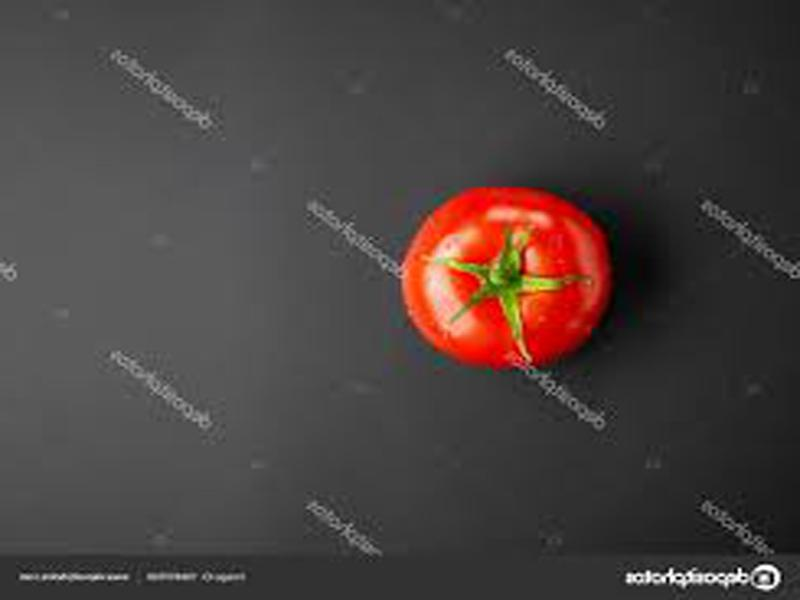Tomato: (397, 184, 610, 369)
